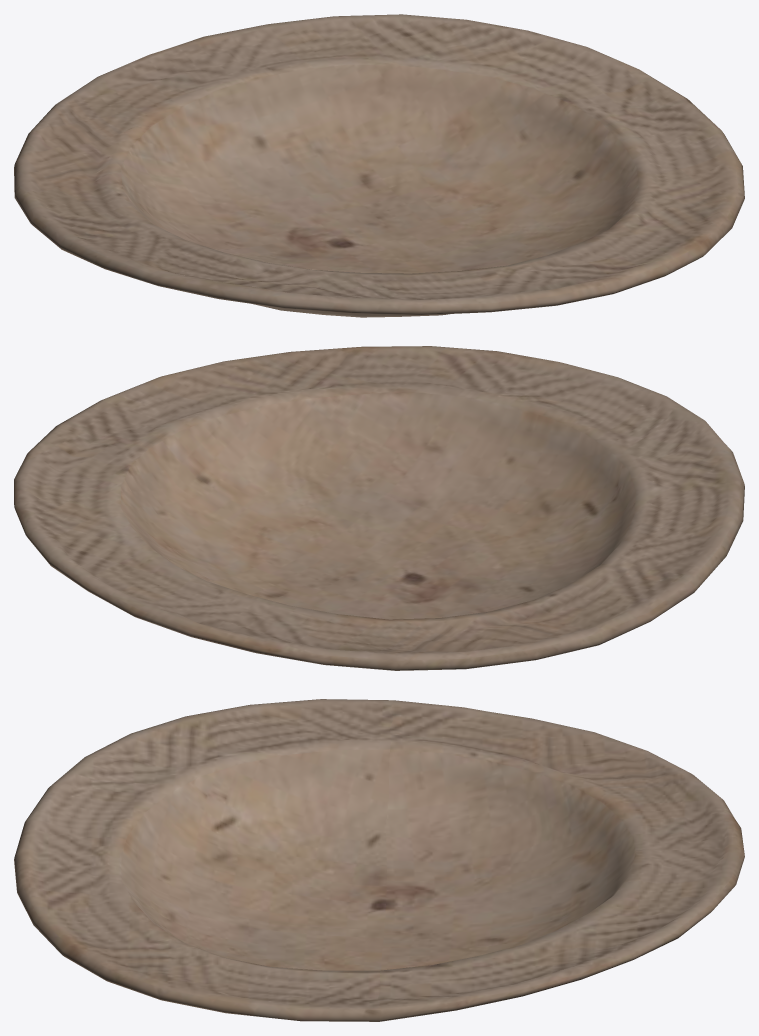
File: carved_wooden_plate.glb
3 renders of one model, top to bottom at view 1: azimuth 30°, elevation 25°; view 2: azimuth 150°, elevation 25°; view 3: azimuth 270°, elevation 25°, orthographic. The views are drawn at different scales.
Visible parts, largest first — view 1: carved_wooden_plate; view 2: carved_wooden_plate; view 3: carved_wooden_plate.
Boxes of the visible parts, left/top/right/bottom form: carved_wooden_plate: left=14, top=14, right=744, bottom=317; carved_wooden_plate: left=14, top=346, right=744, bottom=670; carved_wooden_plate: left=14, top=699, right=744, bottom=1021.
Bounding box in the file's own units: 0.2718 × 0.0381 × 0.2688.
Materials: 1 (1 with a texture image).
